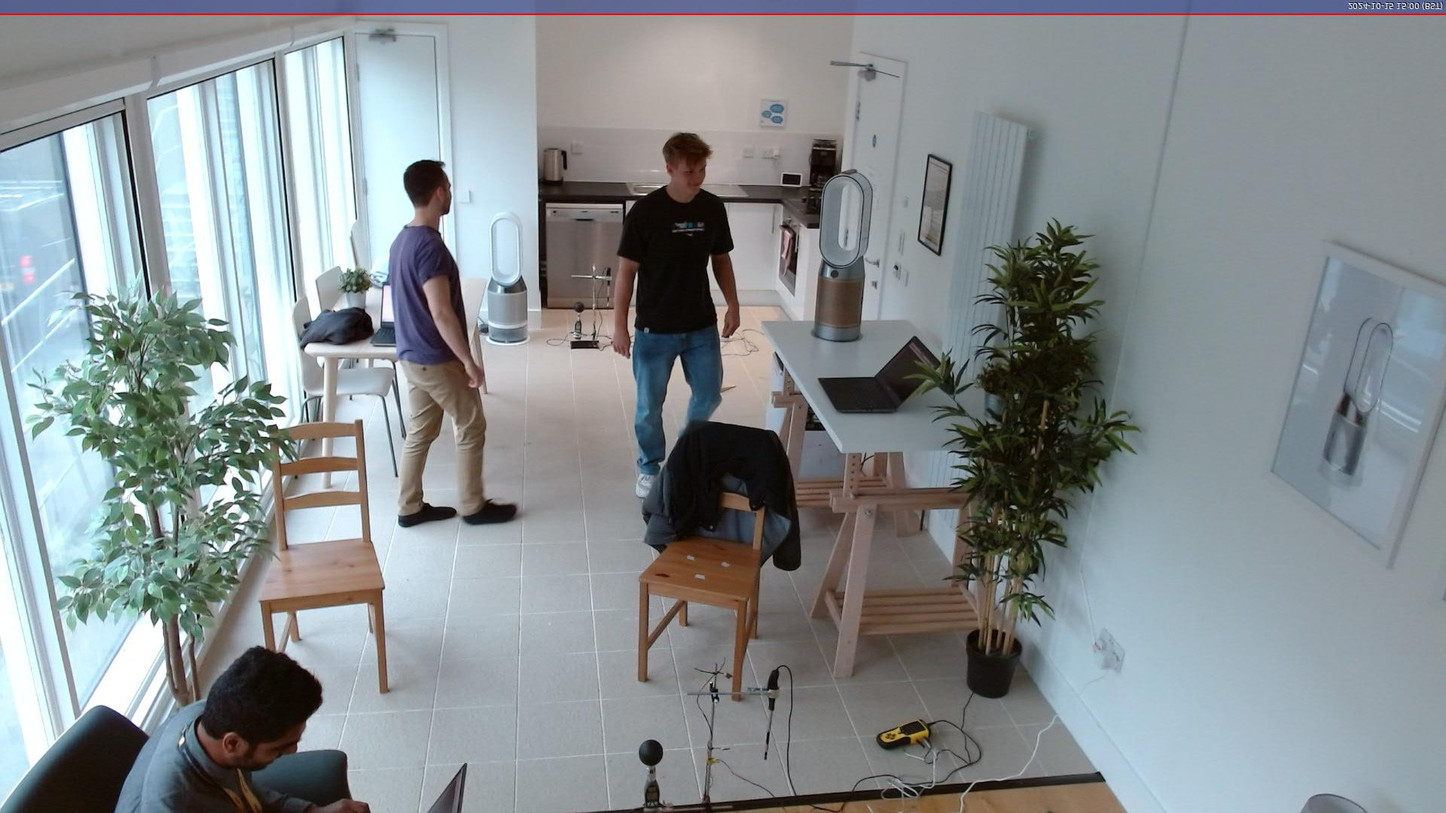long sleeve shirt: (115, 698, 317, 813)
short sleeve shirt: (615, 183, 736, 334), (385, 225, 473, 364)
trousers: (395, 355, 489, 518), (629, 327, 725, 479)
